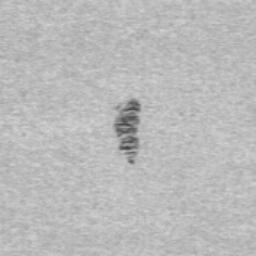Secondary rust skin: (112, 96, 142, 165)
